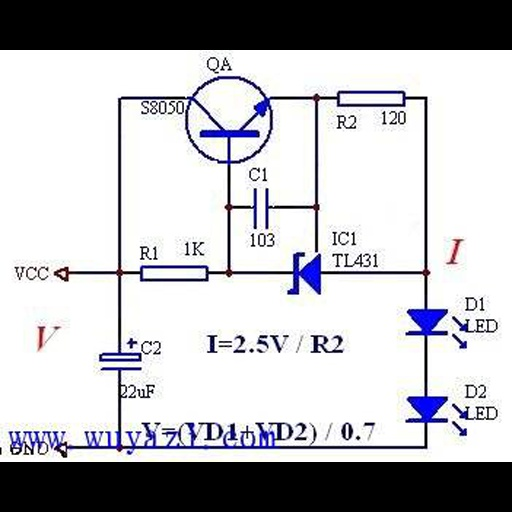capacitor: (246, 185, 278, 230)
firstled: (395, 303, 469, 352), (397, 391, 468, 441)
firstresistance: (135, 261, 216, 286), (335, 86, 408, 107)
npn: (193, 96, 267, 149)
secondpolarcapacitor: (95, 336, 143, 375)
